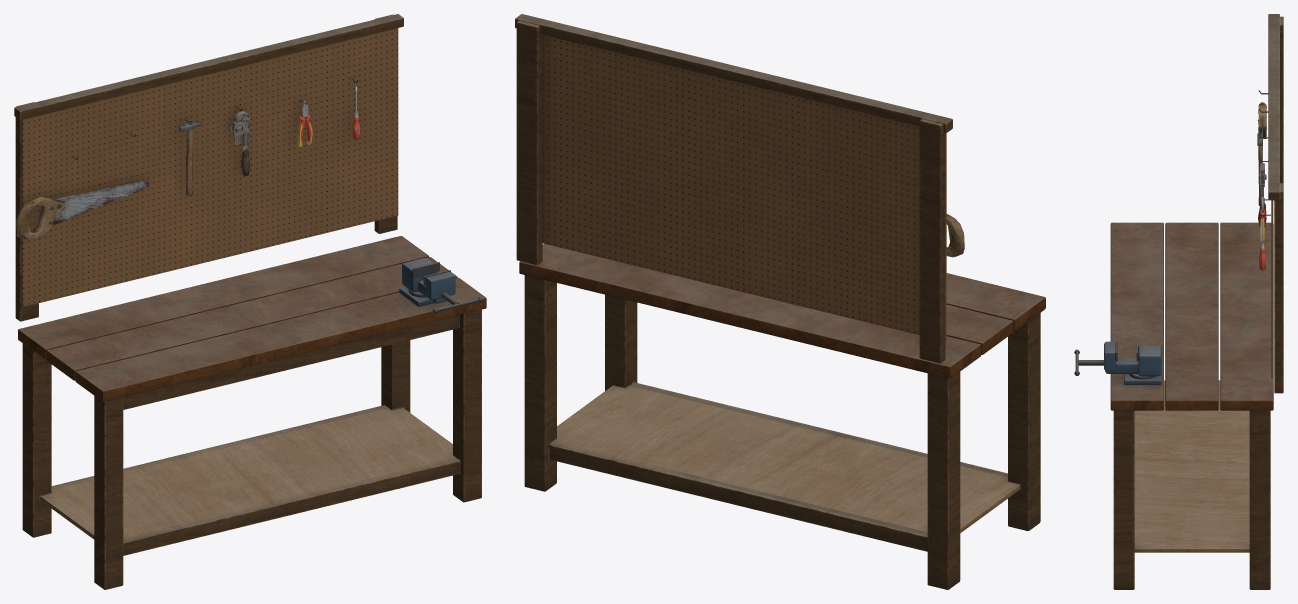
Rendered from workbench.glb.
3 views of the same model, side by side, from view 1: azimuth 30°, elevation 25°; view 2: azimuth 150°, elevation 25°; view 3: azimuth 270°, elevation 25° (orthographic). The views are drawn at different scales.
Parts seen in each view (by area): view 1: workbench; view 2: workbench; view 3: workbench.
Boxes of the visible parts, x1,y1,x2,y2 form: workbench: [14, 14, 486, 589]; workbench: [515, 14, 1045, 589]; workbench: [1074, 14, 1283, 589].
Bounding box in the file's own units: 1.83 × 1.88 × 0.8919.
1 material, 1 textured.
